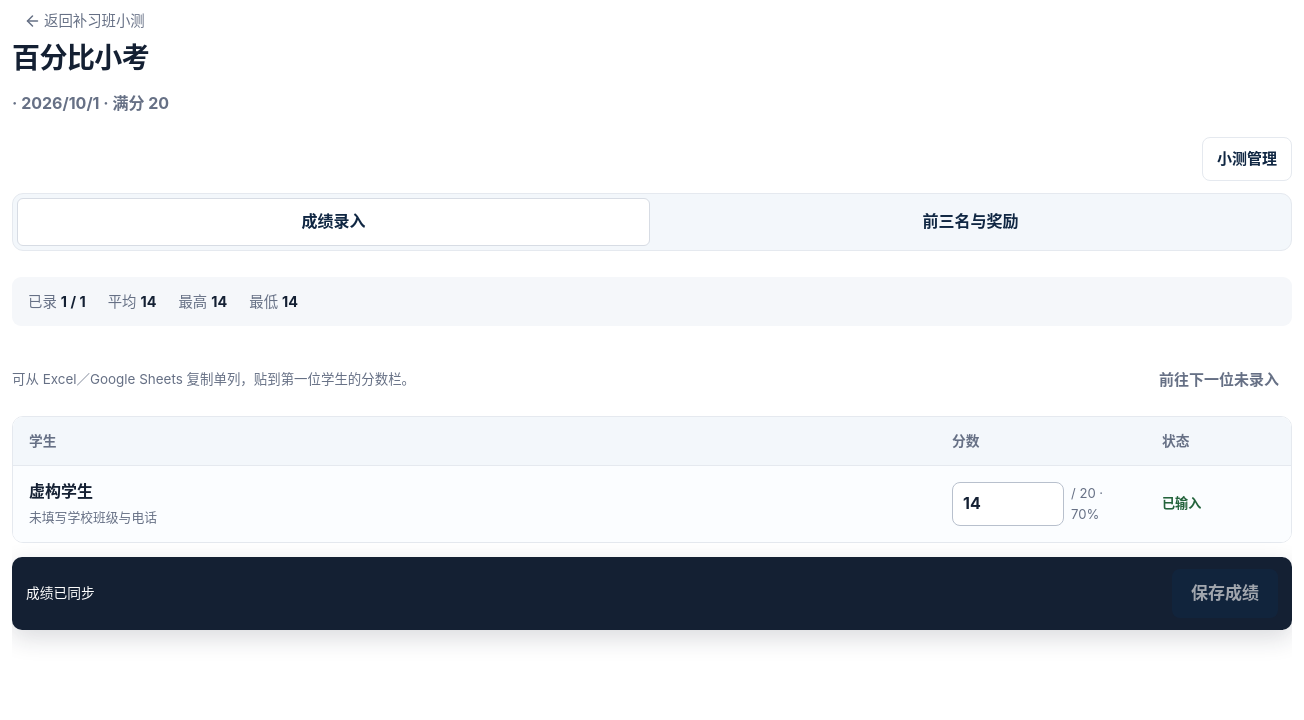
Test case: enables live percentages on the real quiz page without additional reads or percentage fields
This screenshot has width=1304, height=720.
Expected: the text "/ 20 · 70%" is shown, left=1071, top=485, right=1103, bottom=522
Replace the text in the number field with "18": (1008, 504) left=952, top=482, right=1064, bottom=526
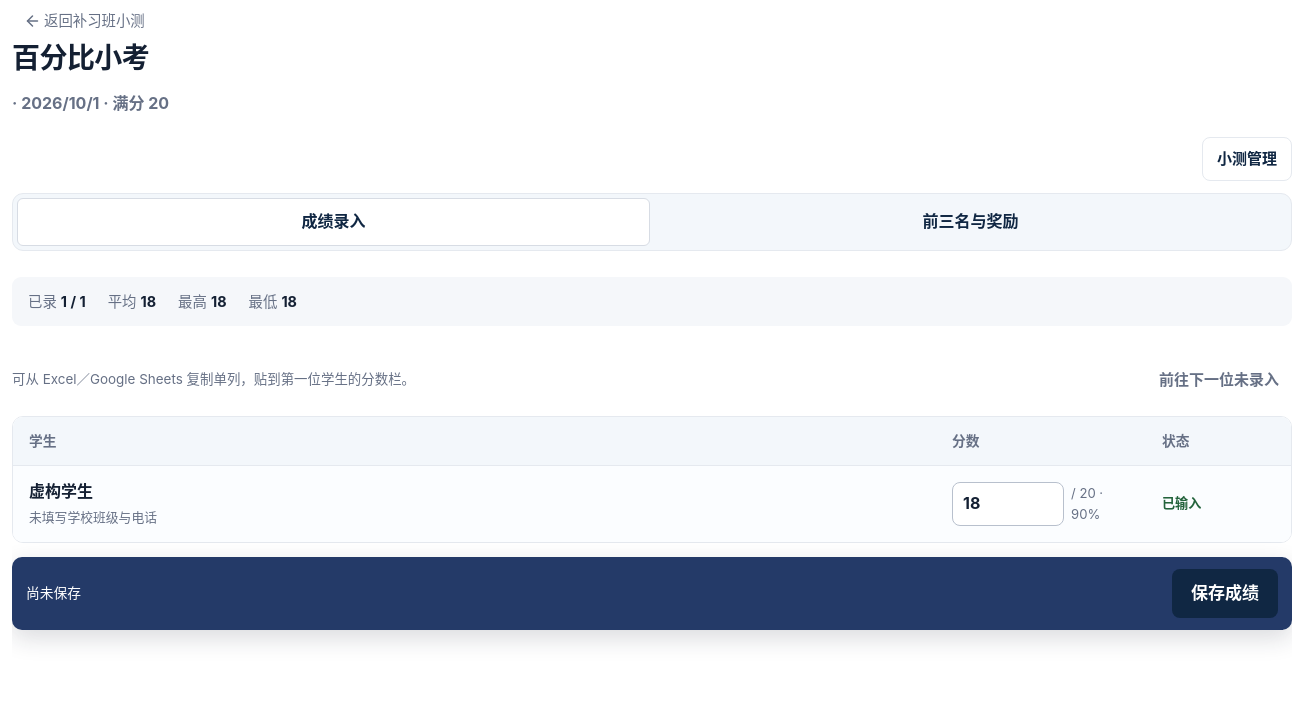
Expected: the text "/ 20 · 90%" is shown, left=1071, top=485, right=1103, bottom=522
Expected: the text "尚未保存" is shown, left=26, top=582, right=81, bottom=604
Click the button "保存成绩": (1225, 593) left=1172, top=569, right=1278, bottom=618
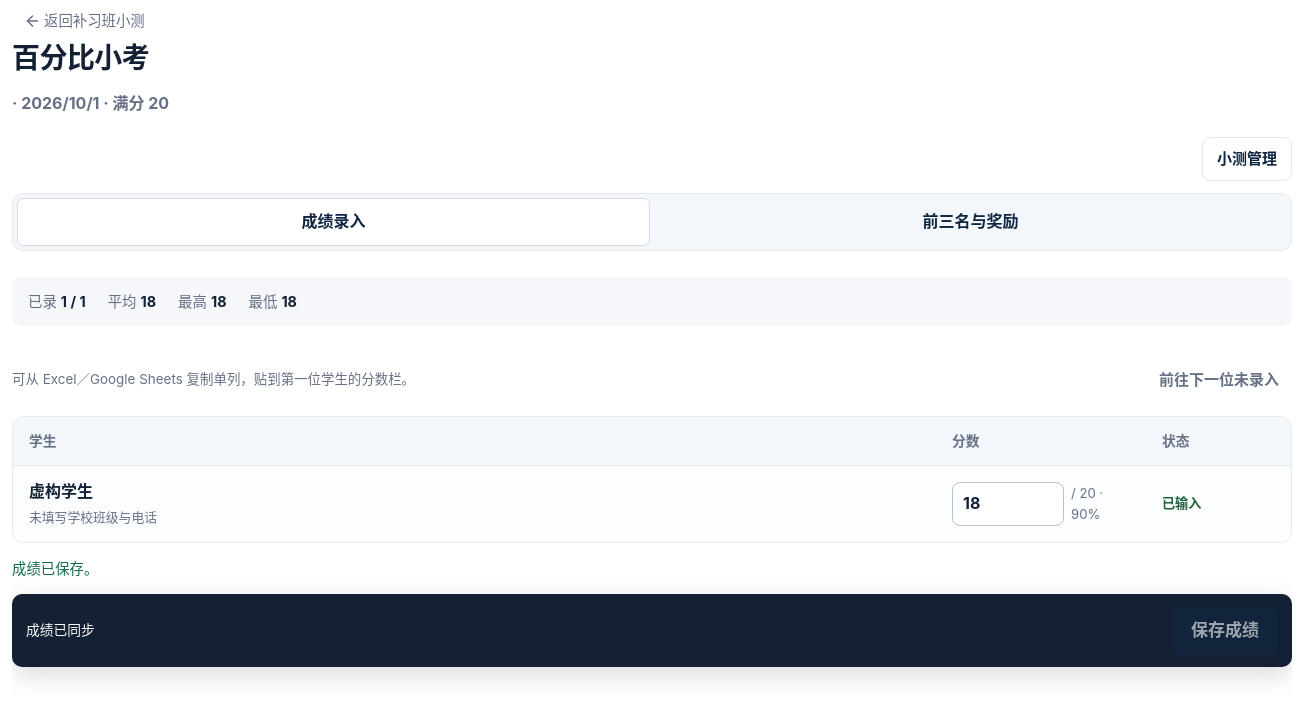
Expected: the text "成绩已保存。" is shown, left=12, top=560, right=98, bottom=577
